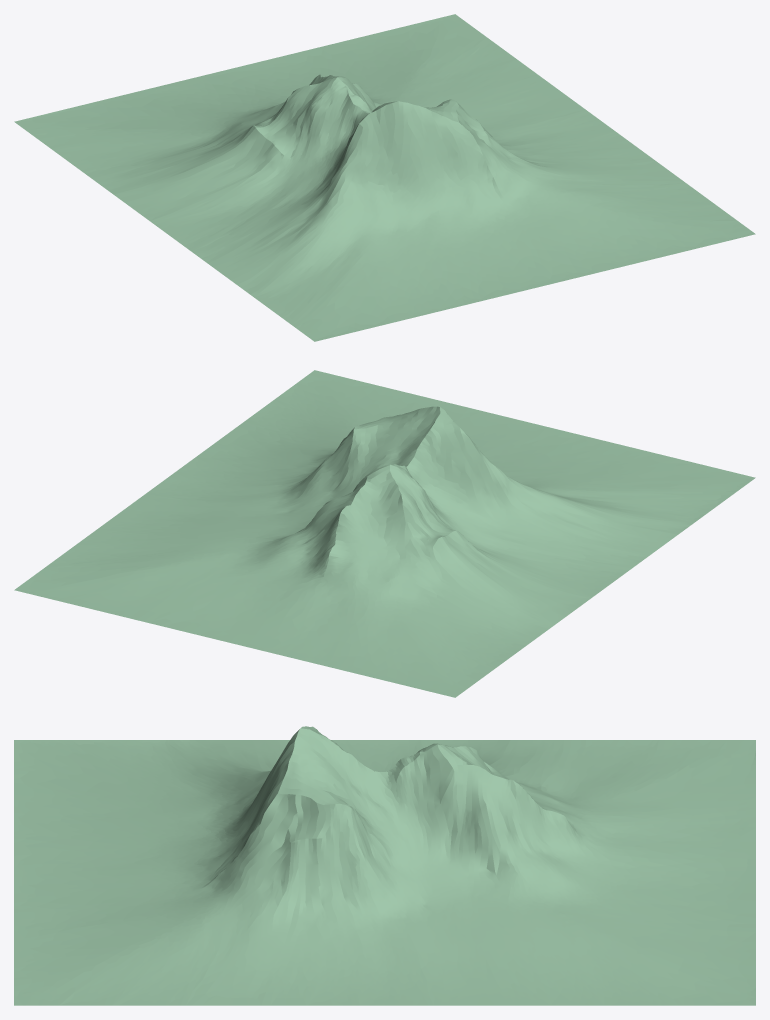
Rendered from volcano_D_small_square.fbx.
3 renders of one model, top to bottom at view 1: azimuth 30°, elevation 25°; view 2: azimuth 150°, elevation 25°; view 3: azimuth 270°, elevation 25°, orthographic. The views are drawn at different scales.
Parts seen in each view (by area): view 1: volcano_D_small_square; view 2: volcano_D_small_square; view 3: volcano_D_small_square.
Boxes of the visible parts, box(x1,y1,x2,y2) form: volcano_D_small_square: box(14, 14, 755, 341); volcano_D_small_square: box(14, 370, 755, 697); volcano_D_small_square: box(14, 726, 755, 1005).
Bounding box in the file's own units: 7058 × 1638 × 8329.
